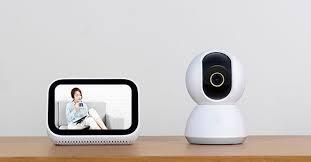tutu: (185, 50, 248, 106)
